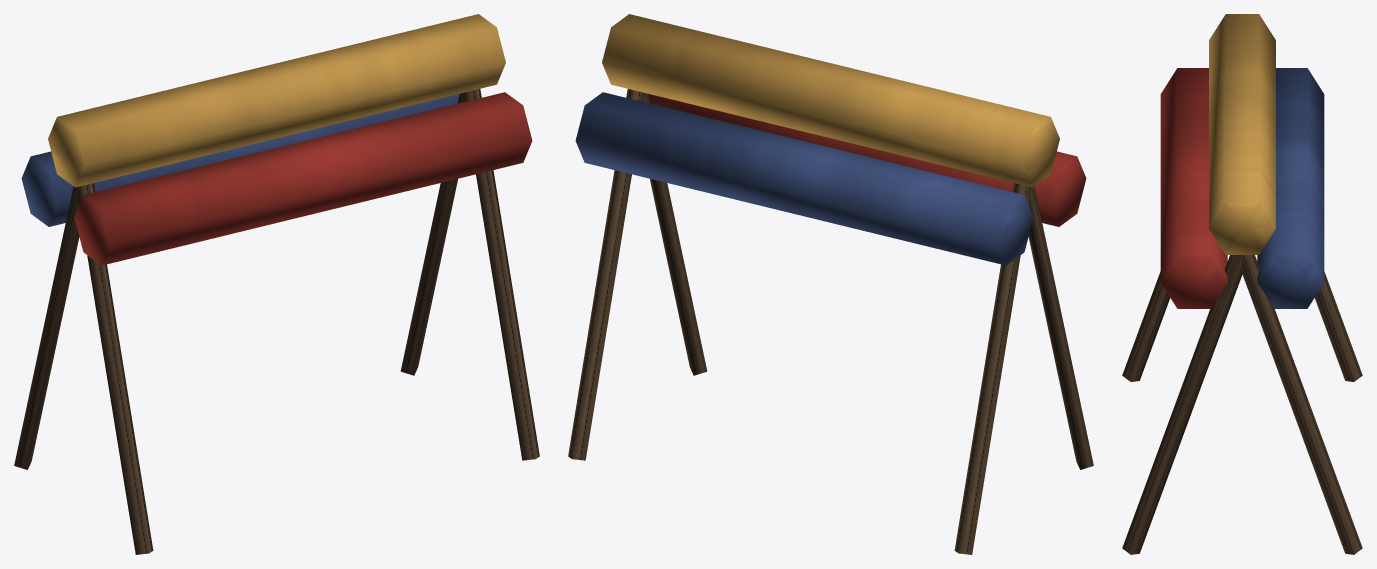
File: Cloth_Rolls_1_LOD1.gltf
3 views of the same model, side by side, from view 1: azimuth 30°, elevation 25°; view 2: azimuth 150°, elevation 25°; view 3: azimuth 270°, elevation 25° (orthographic). The views are drawn at different scales.
Parts seen in each view (by area): view 1: Cloth_Rolls_1_LOD1; view 2: Cloth_Rolls_1_LOD1; view 3: Cloth_Rolls_1_LOD1.
Part boxes in pixels (x1,y1,x2,y2): Cloth_Rolls_1_LOD1: (14, 14, 539, 554); Cloth_Rolls_1_LOD1: (568, 14, 1093, 554); Cloth_Rolls_1_LOD1: (1122, 14, 1362, 554).
Size of the model in its own units: 1.2 by 1.07 by 0.6474.
Materials: 4 (4 with a texture image).
